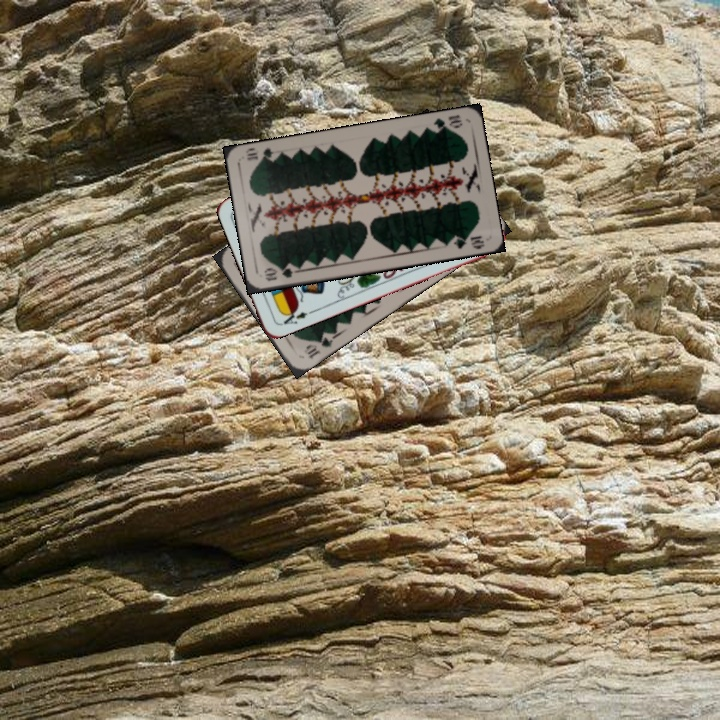EA: (276, 304, 310, 328)
G10: (302, 332, 336, 362), (427, 111, 465, 135), (260, 263, 300, 284)
